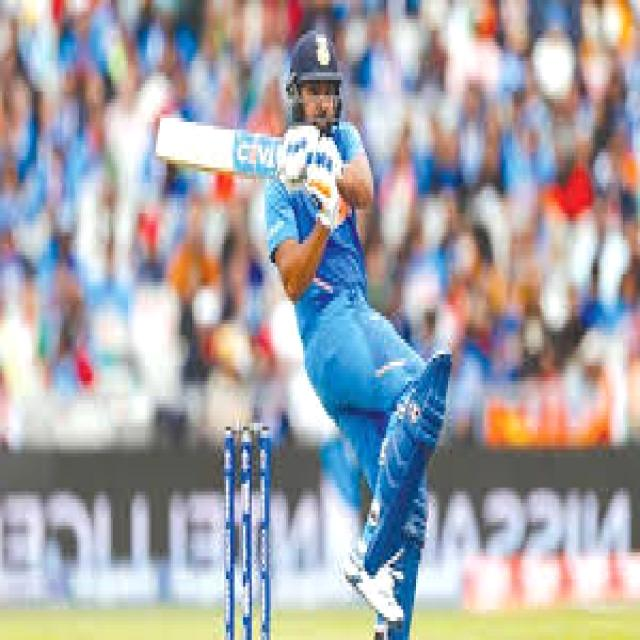toe: (152, 114, 181, 162)
